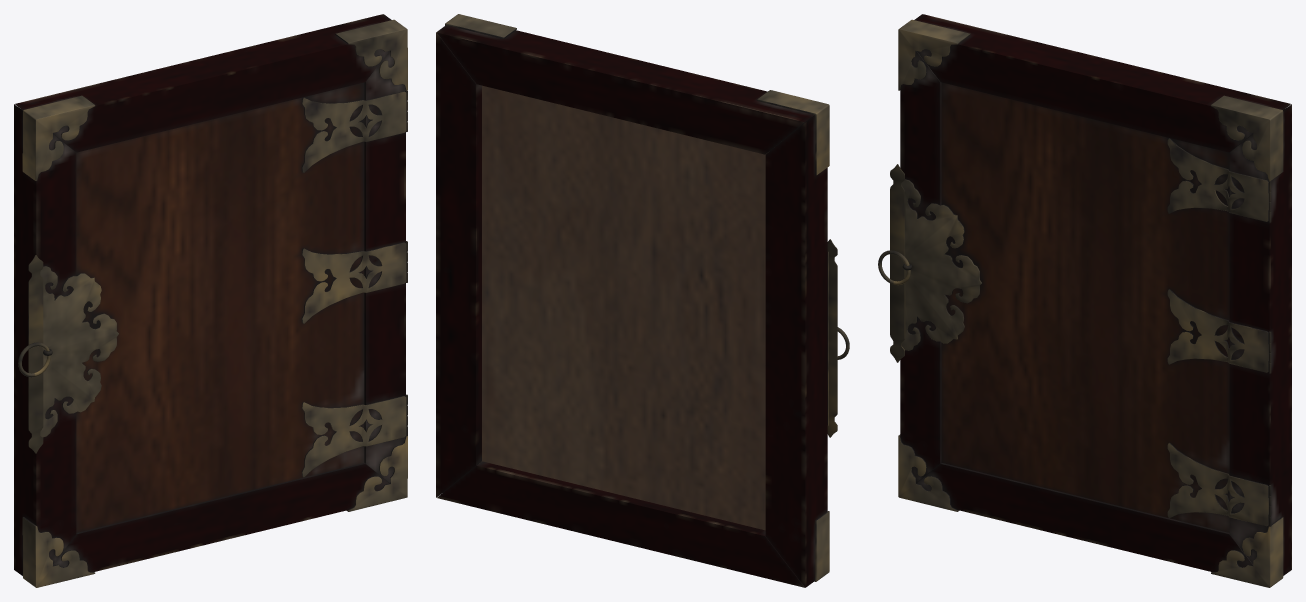
The model's file is SM_Cabinet240_doorTR.fbx.
3 renders of one model, left to right at view 1: azimuth 30°, elevation 25°; view 2: azimuth 150°, elevation 25°; view 3: azimuth 330°, elevation 25°, orthographic.
Visible parts, largest first — view 1: SM_Cabinet240_doorTR; view 2: SM_Cabinet240_doorTR; view 3: SM_Cabinet240_doorTR.
Part boxes in pixels (left/top/right/bottom): SM_Cabinet240_doorTR: left=14, top=14, right=407, bottom=587; SM_Cabinet240_doorTR: left=436, top=14, right=849, bottom=587; SM_Cabinet240_doorTR: left=878, top=14, right=1291, bottom=587.
Size of the model in its own units: 25.34 by 29.03 by 3.01.
1 material, 1 textured.
